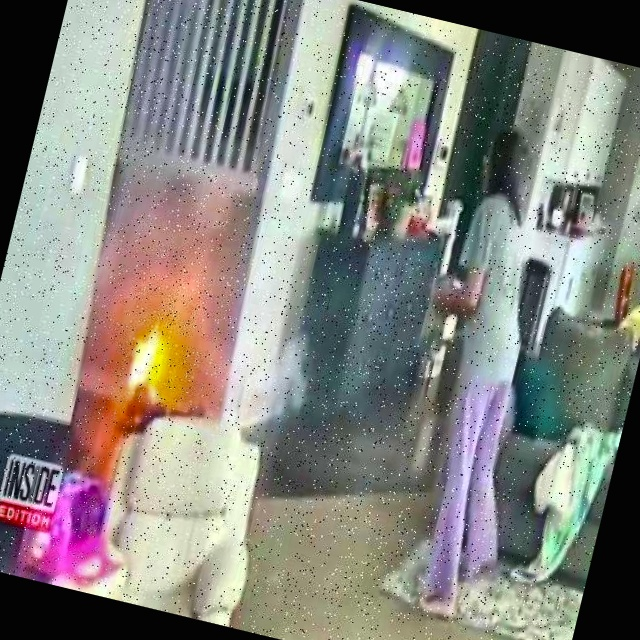fire: (76, 298, 214, 449)
